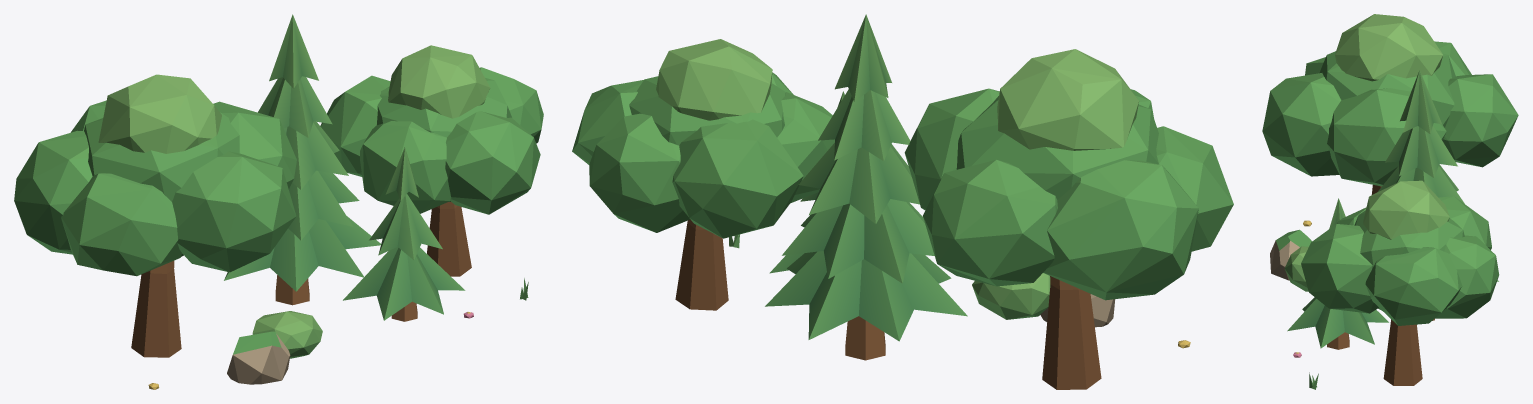
The model's file is ranch_border_grove_mixed.fbx.
3 views of the same model, side by side, from view 1: azimuth 30°, elevation 25°; view 2: azimuth 150°, elevation 25°; view 3: azimuth 270°, elevation 25° (orthographic). The views are drawn at different scales.
Visible parts, largest first — view 1: ranch_border_grove_mixed; view 2: ranch_border_grove_mixed; view 3: ranch_border_grove_mixed.
Part boxes in pixels (x1=…): ranch_border_grove_mixed: x1=14, y1=14, x2=543, y2=389; ranch_border_grove_mixed: x1=572, y1=14, x2=1233, y2=389; ranch_border_grove_mixed: x1=1262, y1=14, x2=1518, y2=389.
Size of the model in its own units: 31.18 by 16.66 by 15.66.
